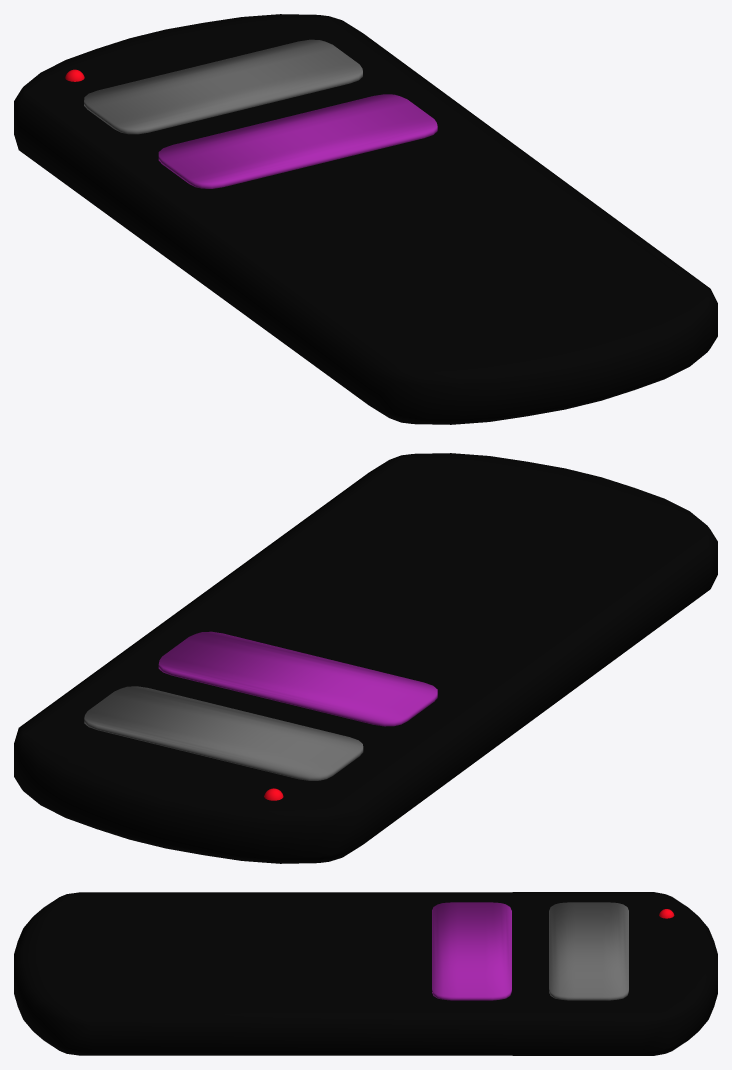
File: remote (2).fbx
The picture shows the model from 3 angles, top to bottom: view 1: azimuth 30°, elevation 25°; view 2: azimuth 150°, elevation 25°; view 3: azimuth 270°, elevation 25°; orthographic projection. The views are drawn at different scales.
Visible parts, largest first — view 1: remote, button 2, button; view 2: remote, button 2, button; view 3: remote, button 2, button.
Boxes of the visible parts, box(x1,y1,x2,y2) form: remote: box(14, 14, 717, 424); button 2: box(158, 94, 437, 188); button: box(84, 39, 362, 134); remote: box(14, 453, 717, 863); button 2: box(158, 631, 437, 726); button: box(84, 686, 363, 780); remote: box(14, 892, 717, 1055); button 2: box(432, 902, 511, 1000); button: box(549, 902, 628, 1000).
Bounding box in the file's own units: 3.64 × 0.5997 × 8.19.
